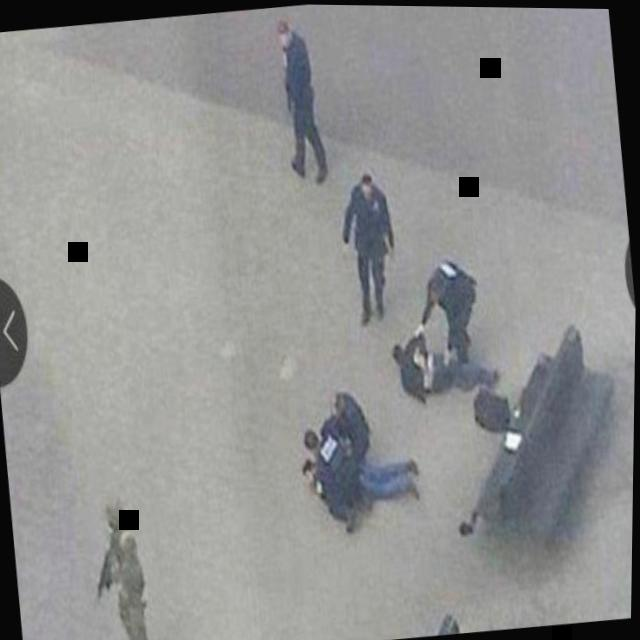Fall-Detected: (288, 415, 430, 540)
